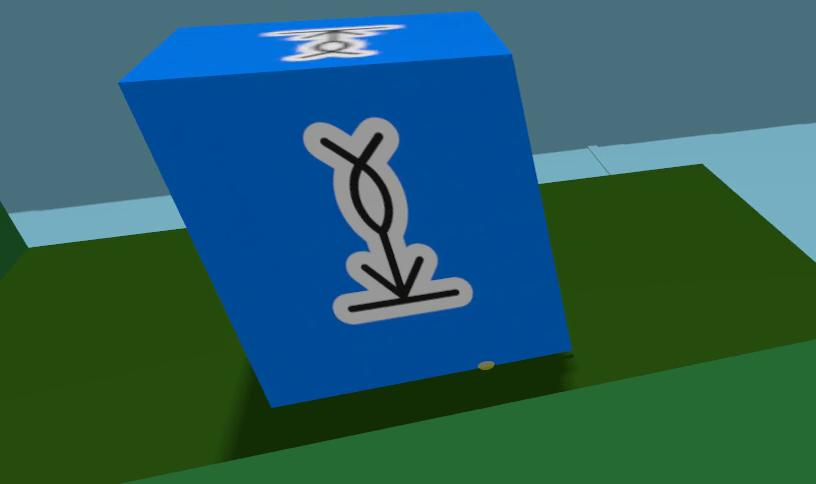KFS_REAL: (119, 13, 572, 406), (302, 117, 473, 324), (260, 25, 402, 61)
